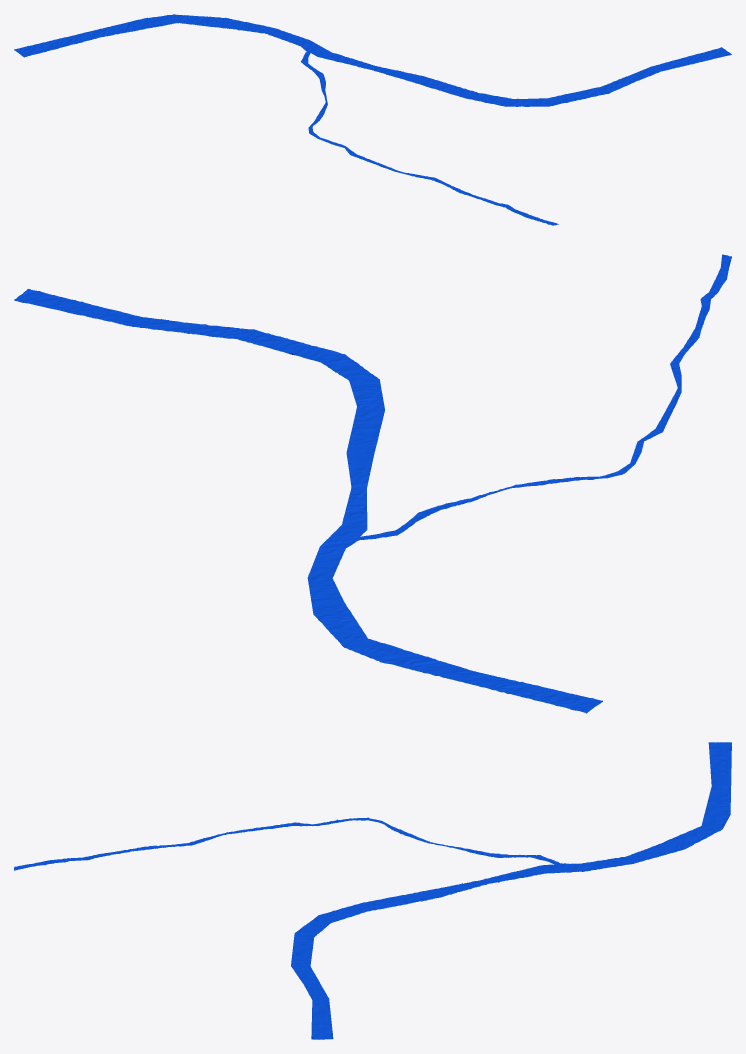
The model's file is water.FBX.
3 views of the same model, one above another, from view 1: azimuth 30°, elevation 25°; view 2: azimuth 150°, elevation 25°; view 3: azimuth 270°, elevation 25° (orthographic). The views are drawn at different scales.
Parts seen in each view (by area): view 1: water03, water04, water01, water02; view 2: water03, water04, water01, water02; view 3: water03, water04, water01, water02.
Part boxes in pixels (box(x1,y1,x2,y2)): water03: box(14, 14, 731, 225); water04: box(14, 14, 731, 225); water01: box(15, 14, 730, 225); water02: box(14, 15, 725, 225); water03: box(16, 256, 730, 712); water04: box(14, 256, 730, 713); water01: box(14, 254, 729, 712); water02: box(14, 256, 731, 712); water03: box(18, 742, 731, 1039); water04: box(15, 742, 731, 1039); water01: box(14, 742, 731, 1039); water02: box(14, 742, 731, 1039).
Size of the model in its own units: 34326 by 83.64 by 35093.
